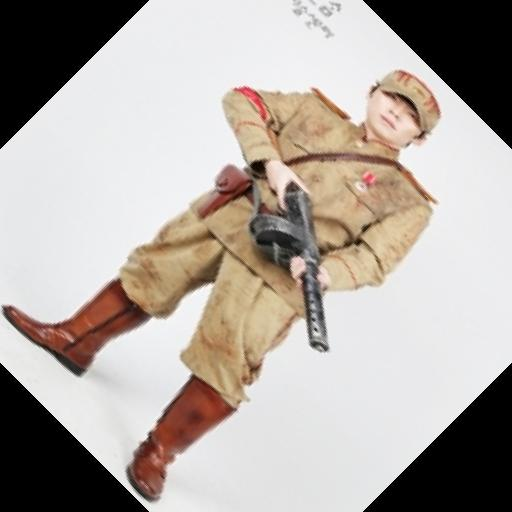north army: (145, 50, 413, 365)
